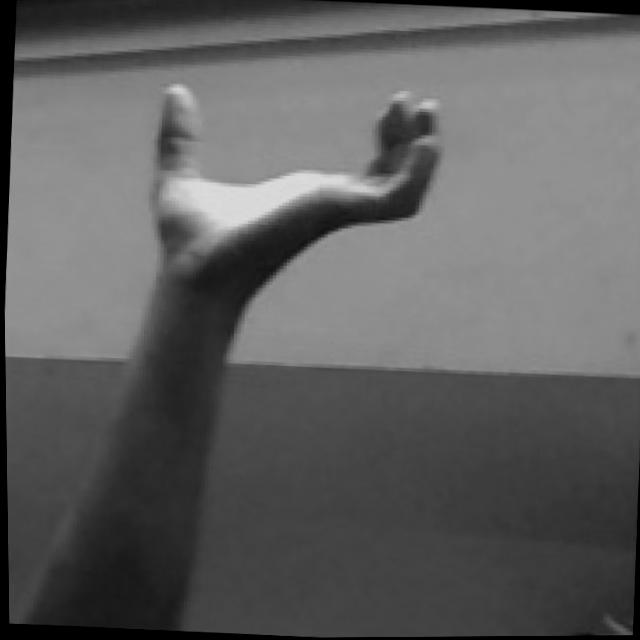space: (141, 74, 453, 285)
